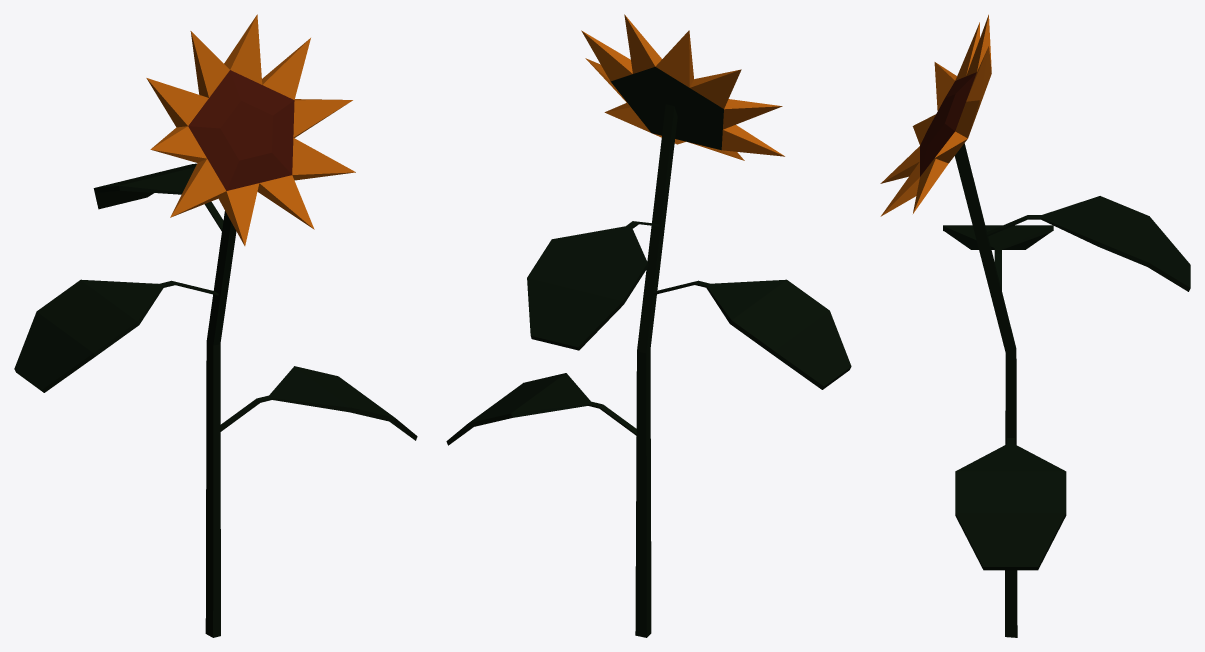
Rendered from Flower_5.obj.
The picture shows the model from 3 angles, left to right: view 1: azimuth 30°, elevation 25°; view 2: azimuth 150°, elevation 25°; view 3: azimuth 270°, elevation 25°; orthographic projection. The views are drawn at different scales.
Parts seen in each view (by area): view 1: Flower_5_Cube.010; view 2: Flower_5_Cube.010; view 3: Flower_5_Cube.010.
Part boxes in pixels (x1,y1,x2,y2): Flower_5_Cube.010: (14, 14, 417, 637); Flower_5_Cube.010: (446, 14, 851, 637); Flower_5_Cube.010: (880, 14, 1190, 637).
Size of the model in its own units: 1.25 by 1.94 by 0.9034.
